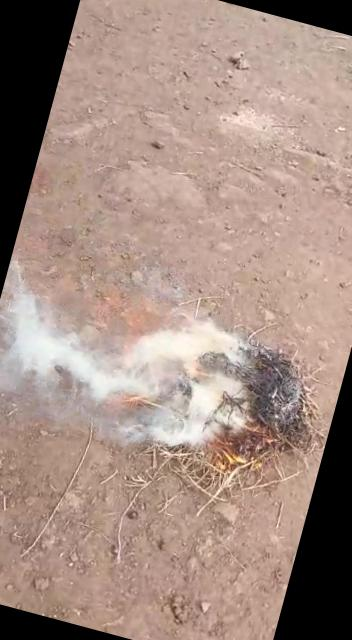Smoke: (0, 262, 279, 475)
